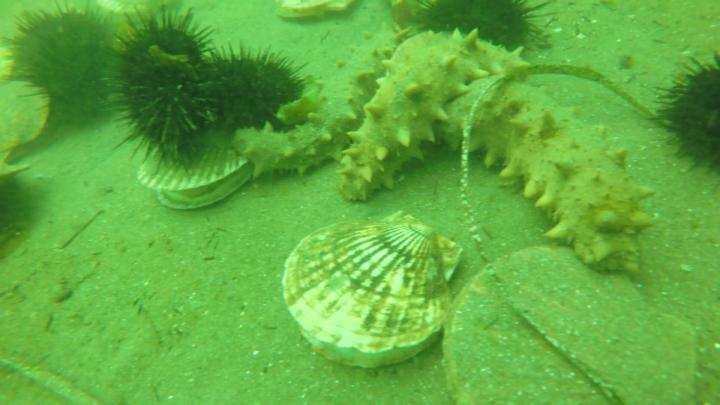echinus: (7, 5, 121, 129), (112, 61, 217, 171), (199, 47, 309, 139), (654, 45, 720, 187), (109, 3, 217, 73), (412, 1, 549, 55)
holothurian: (437, 70, 656, 277), (334, 32, 525, 201), (240, 29, 402, 184)
scallop: (443, 237, 706, 405), (277, 204, 465, 377), (135, 144, 252, 214), (1, 74, 53, 181), (270, 1, 364, 21)
